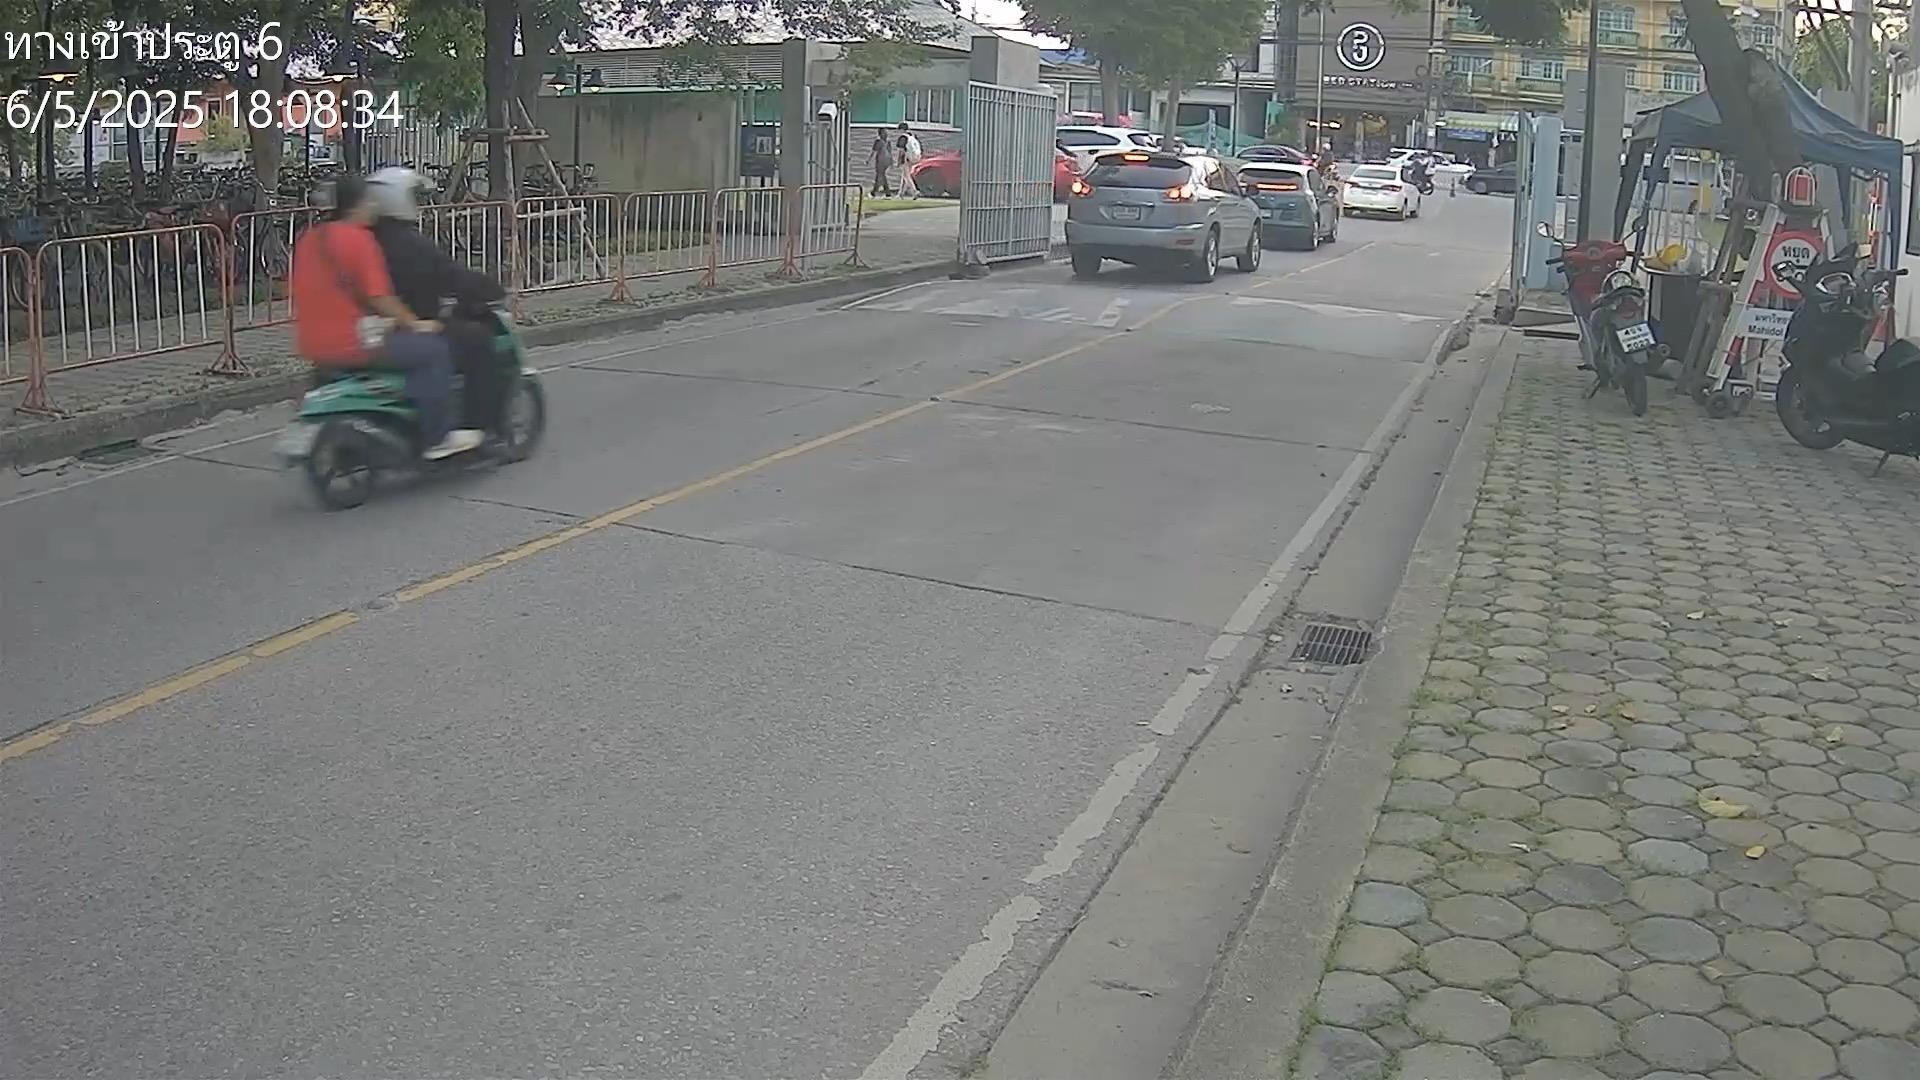With-Helmet: (367, 164, 436, 222)
